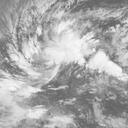cyclone: (41, 25, 85, 66)
